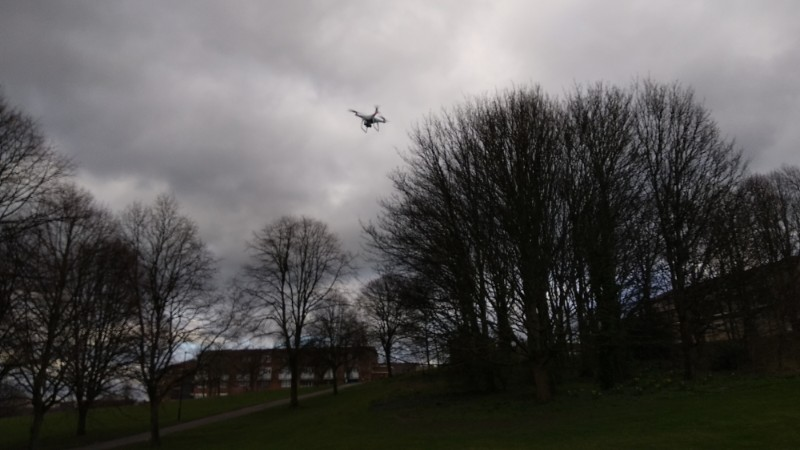drone: (349, 106, 390, 132)
